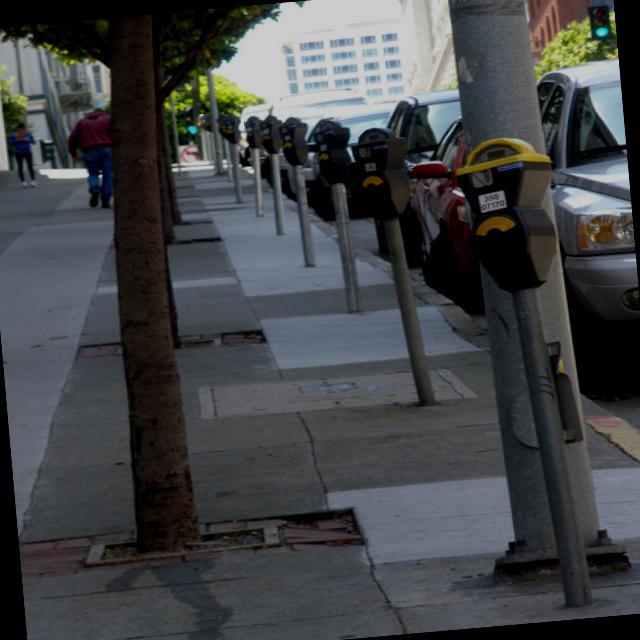Vehicle: (529, 54, 640, 391), (537, 54, 640, 386), (400, 114, 482, 316), (374, 86, 471, 170), (264, 83, 374, 123), (281, 105, 361, 144), (330, 102, 396, 144), (237, 102, 274, 132)
